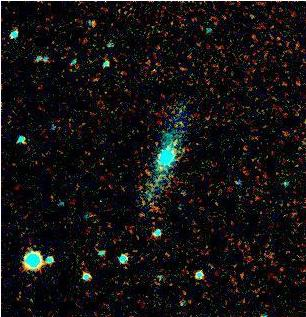star: (162, 111, 192, 141)
